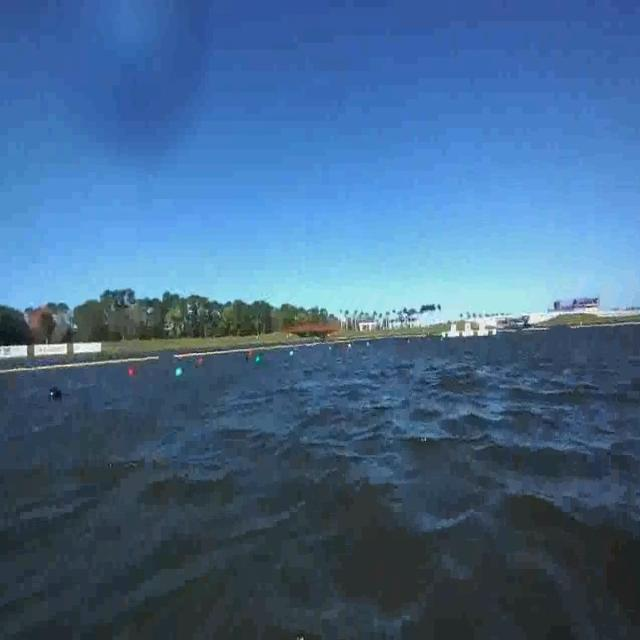black-buoy: (48, 385, 68, 406)
green-buoy: (175, 370, 183, 380)
